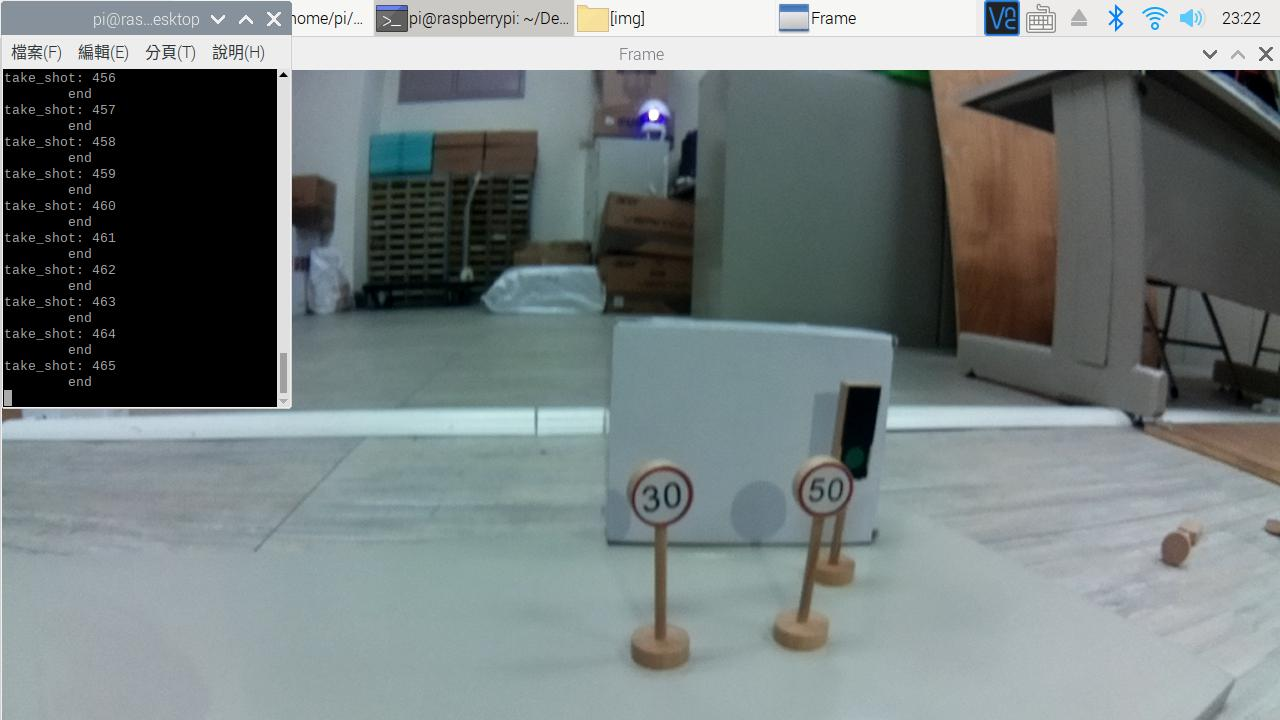Green: (833, 378, 891, 475)
Speed30: (618, 459, 694, 533)
Speed50: (796, 459, 851, 524)
